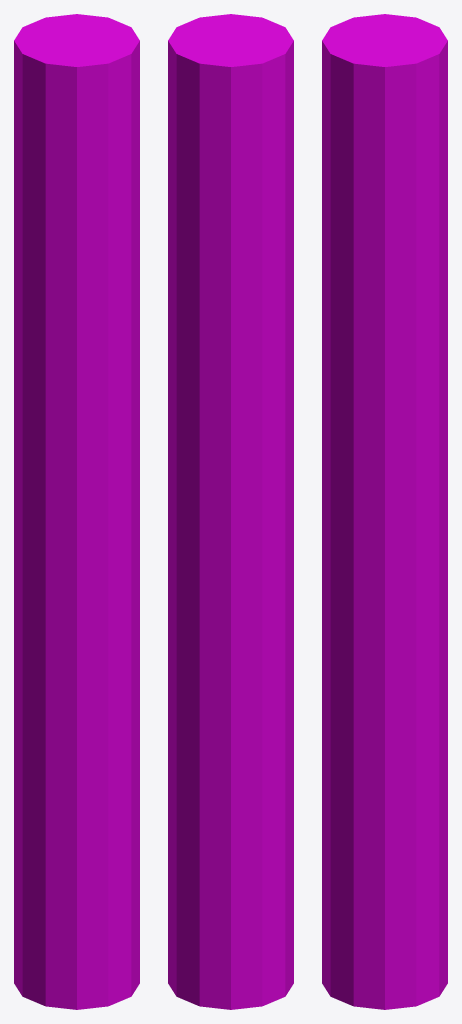
The model's file is SM_OverheadLightSinglePart01Collider.fbx.
3 renders of one model, left to right at view 1: azimuth 90°, elevation 25°; view 2: azimuth 150°, elevation 25°; view 3: azimuth 270°, elevation 25°, orthographic.
Parts seen in each view (by area): view 1: OverheadLightSinglePart01Collision; view 2: OverheadLightSinglePart01Collision; view 3: OverheadLightSinglePart01Collision.
Boxes of the visible parts, <box> form: OverheadLightSinglePart01Collision: <box>14,14,139,1009</box>; OverheadLightSinglePart01Collision: <box>168,14,293,1009</box>; OverheadLightSinglePart01Collision: <box>322,14,447,1009</box>.
Bounding box in the file's own units: 6.32 × 52.28 × 6.32.
